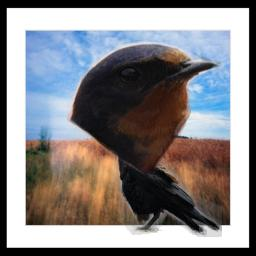Crow: (109, 134, 222, 237)
Swallow: (67, 40, 223, 175)
